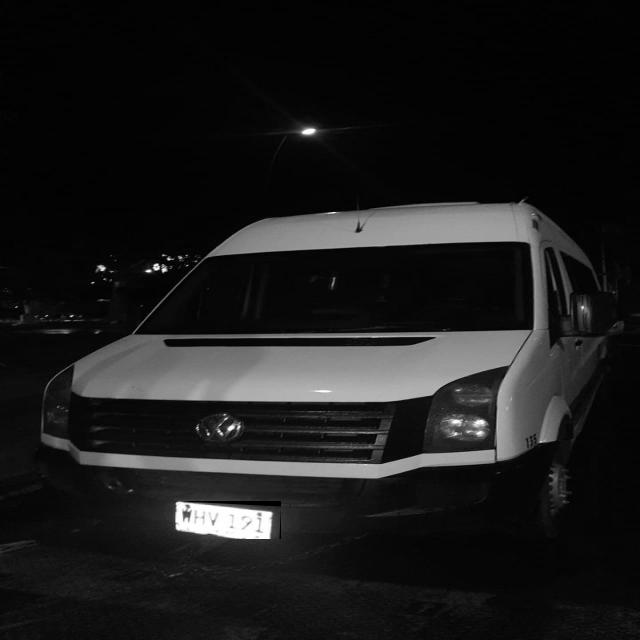plate: (174, 501, 282, 539)
